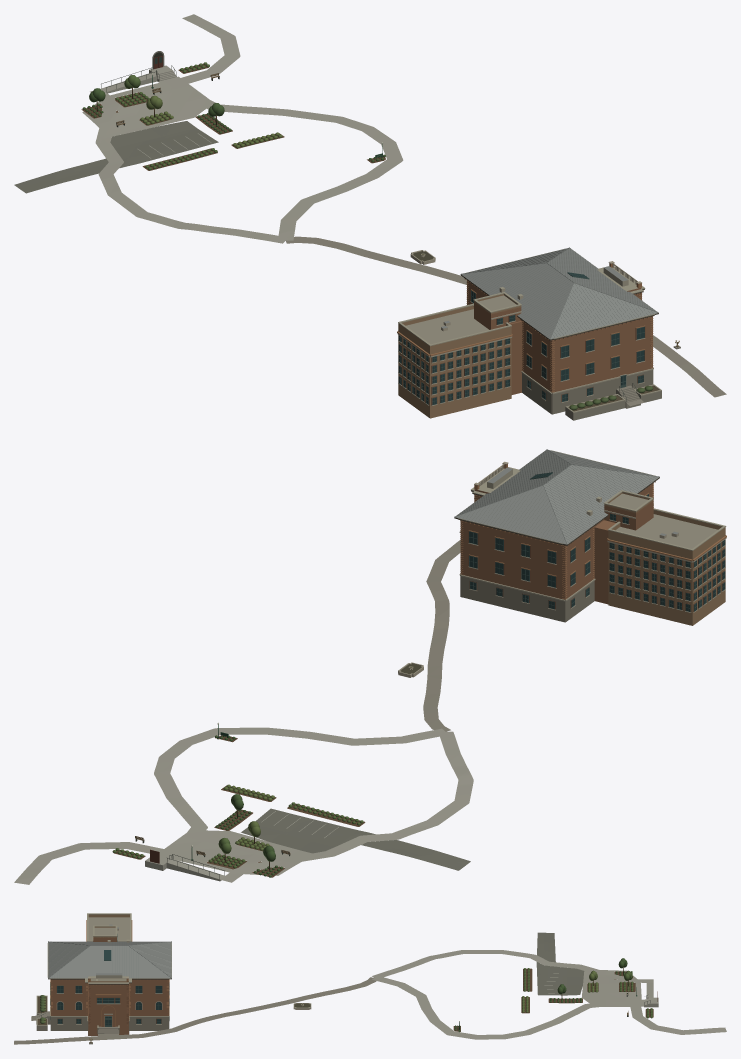
File: site.glb
3 views of the same model, one above another, from view 1: azimuth 30°, elevation 25°; view 2: azimuth 150°, elevation 25°; view 3: azimuth 270°, elevation 25° (orthographic). The views are drawn at different scales.
Visible parts, largest first — view 1: roof-4f0c798e, fenton-hello-walk, fenton-approaches; view 2: roof-4f0c798e, fenton-hello-walk, fenton-approaches; view 3: roof-4f0c798e, fenton-hello-walk, fenton-approaches.
Part boxes in pixels (x1,y1,x2,y2): roof-4f0c798e: [397, 247, 658, 418]; fenton-hello-walk: [14, 14, 726, 397]; fenton-approaches: [81, 51, 680, 420]; roof-4f0c798e: [454, 449, 726, 625]; fenton-hello-walk: [14, 540, 473, 884]; fenton-approaches: [112, 531, 460, 879]; roof-4f0c798e: [47, 913, 171, 1035]; fenton-hello-walk: [14, 932, 726, 1044]; fenton-approaches: [31, 958, 657, 1044].
Size of the model in its own units: 66.34 by 19.28 by 178.
